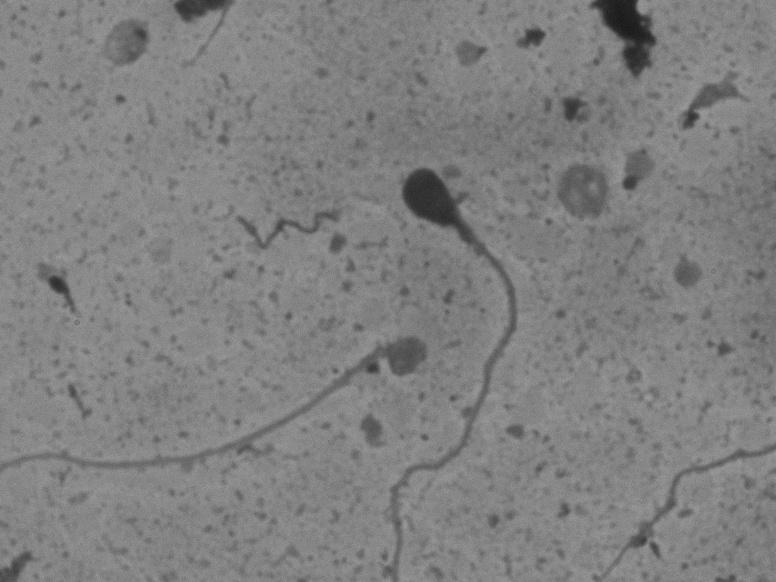Abnormal: (376, 157, 537, 567), (132, 319, 442, 449)
